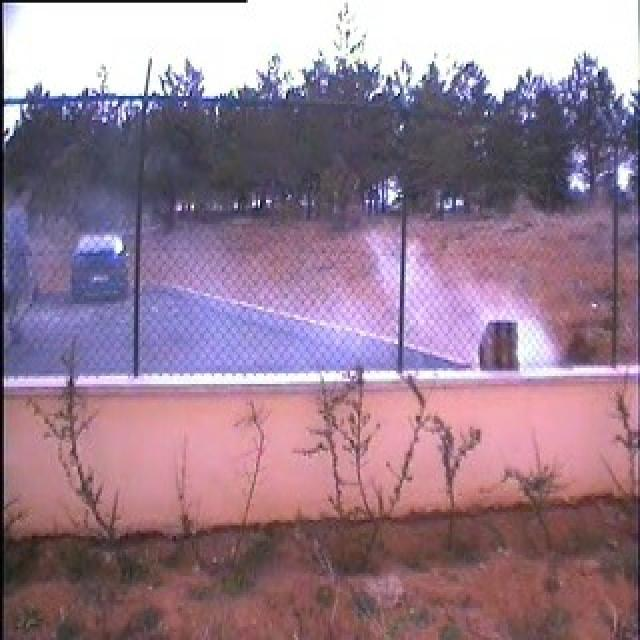Smoke: (367, 230, 555, 368)
